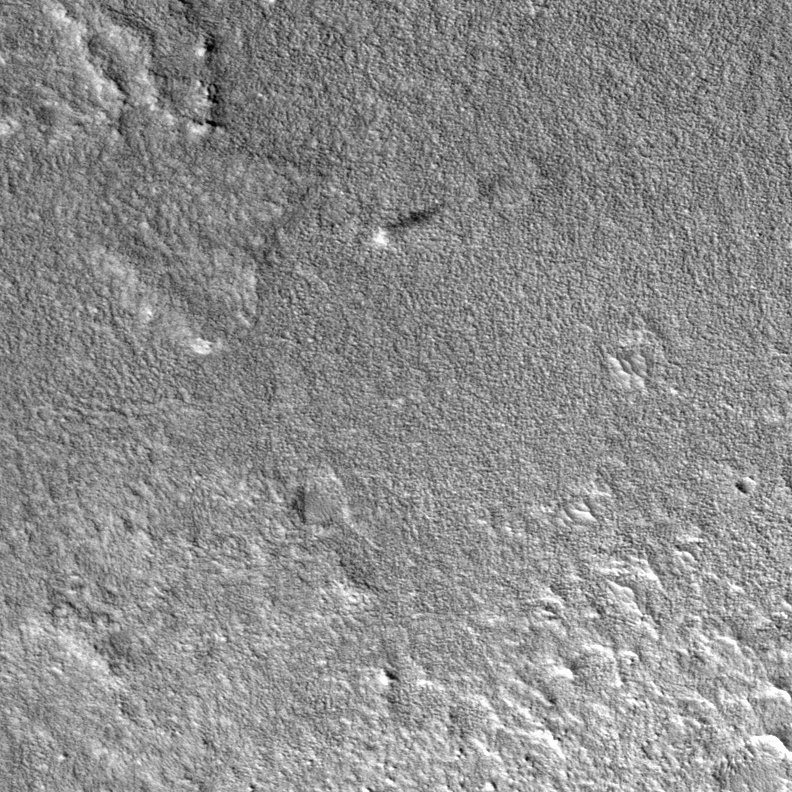dust_devil: (371, 201, 445, 247)
